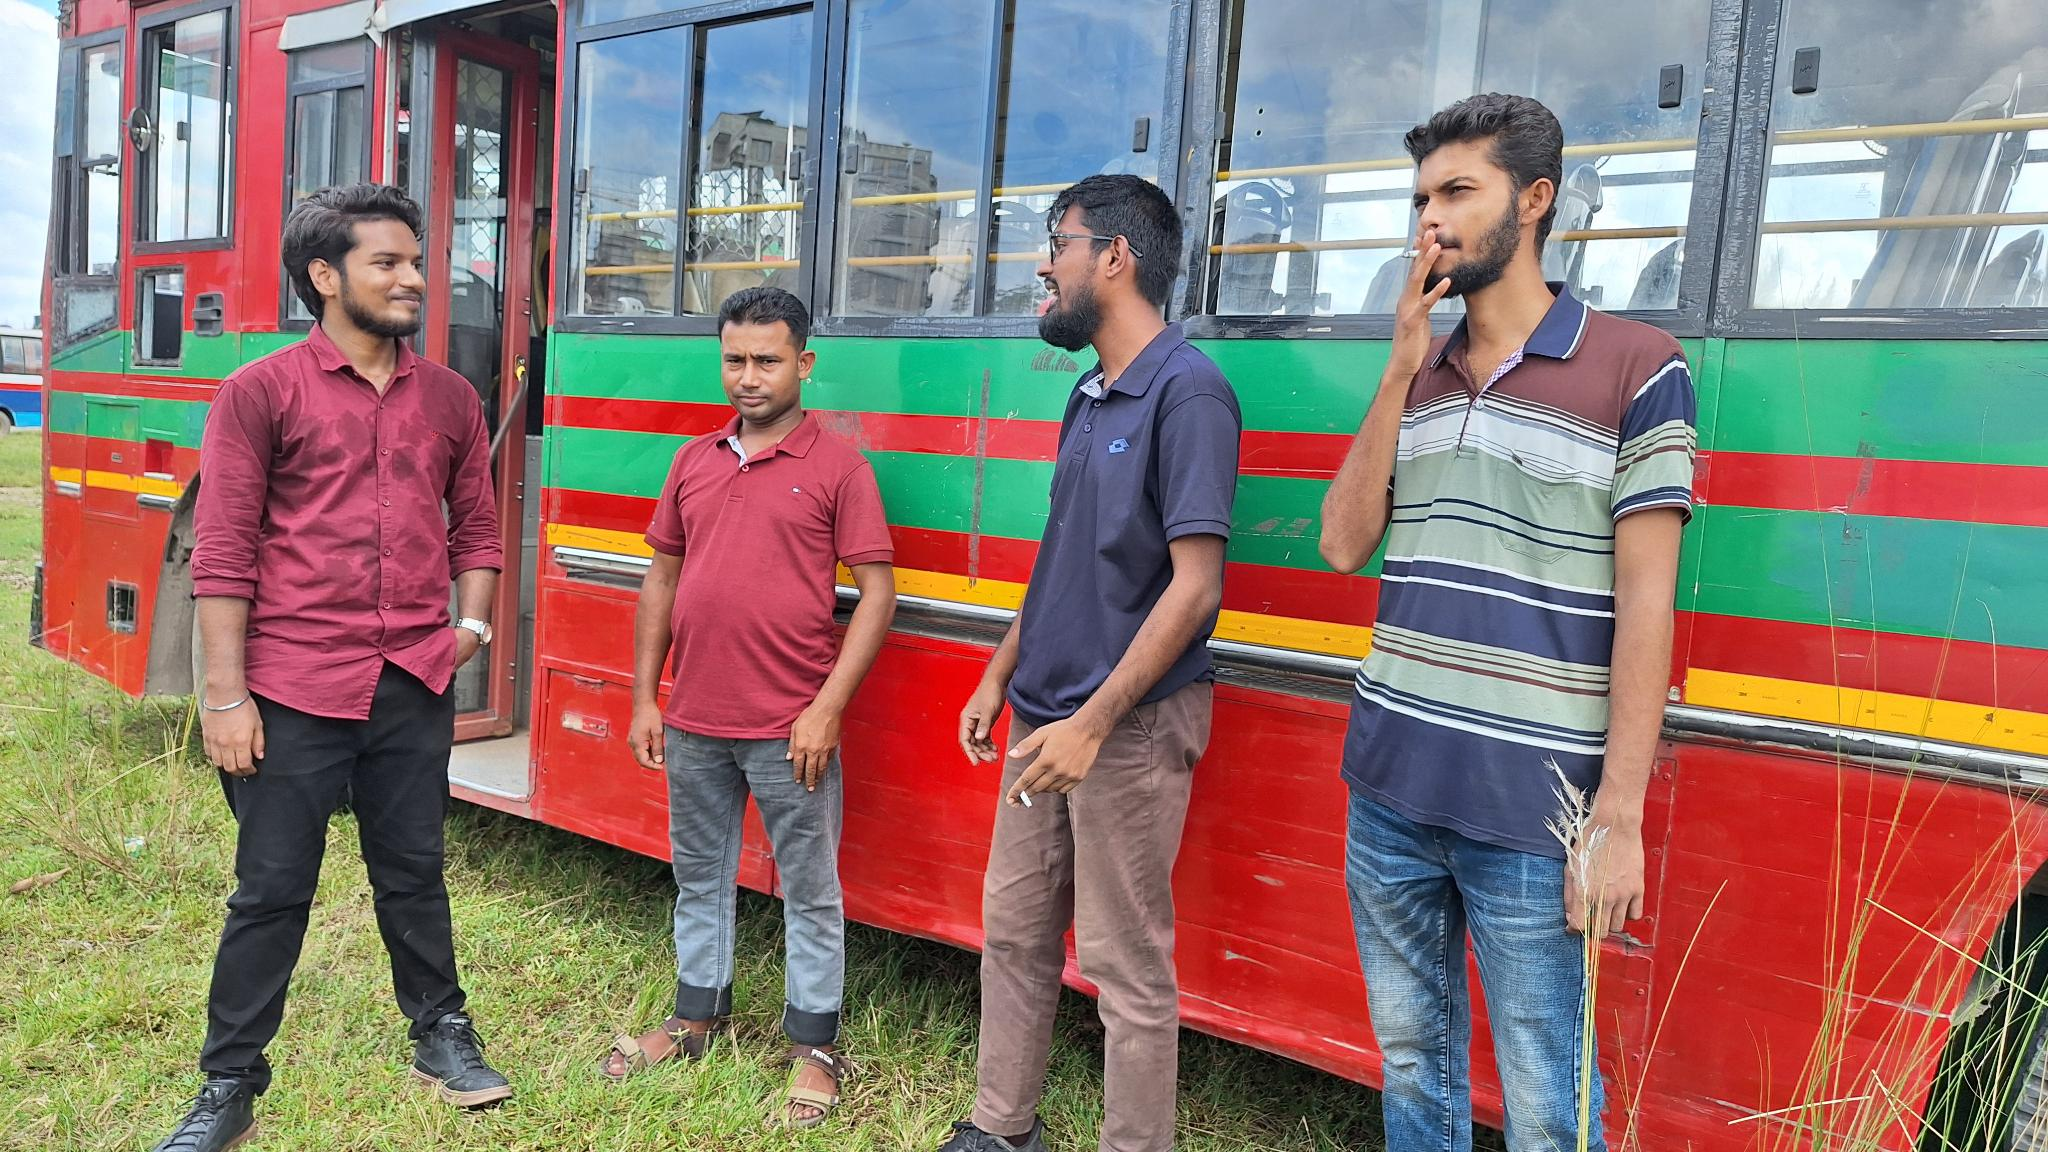cigarette: (1018, 789, 1034, 810), (1398, 248, 1422, 260)
nonSmoker: (151, 181, 513, 1152), (598, 286, 897, 1131)
smoker: (1317, 94, 1698, 1152), (937, 174, 1243, 1152)
